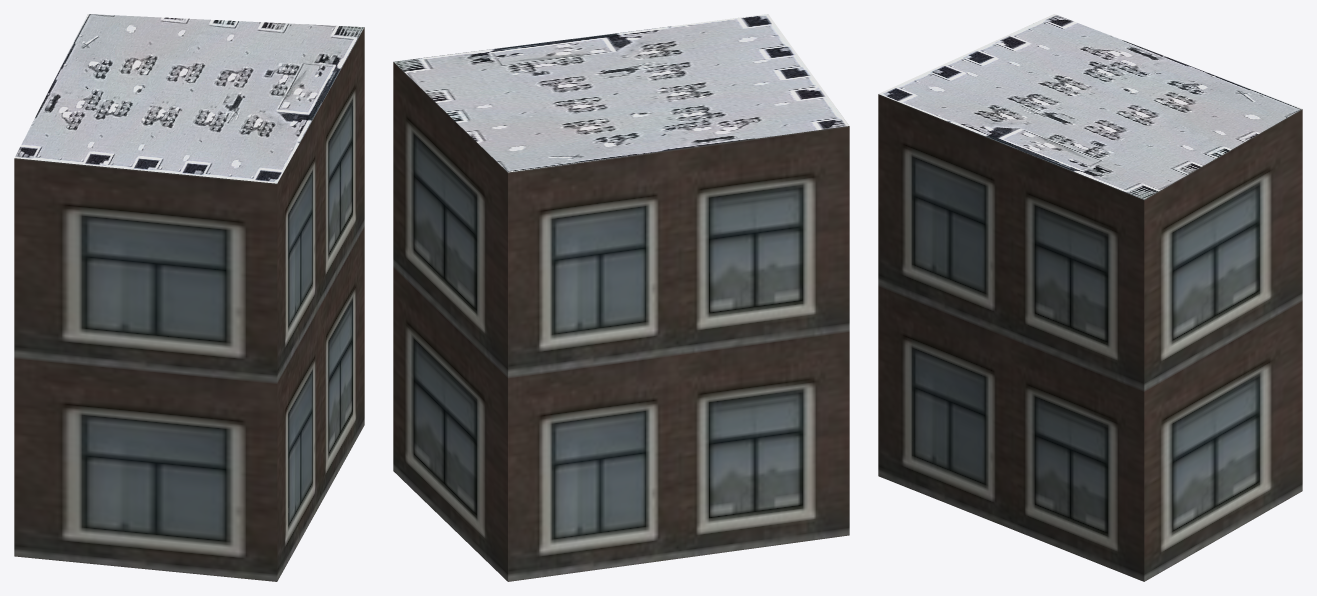
Rendered from ResTex__474.fbx.
3 views of the same model, side by side, from view 1: azimuth 30°, elevation 25°; view 2: azimuth 150°, elevation 25°; view 3: azimuth 270°, elevation 25° (orthographic). The views are drawn at different scales.
Visible parts, largest first — view 1: CityEngineMaterial_16_m, CityEngineMaterial_15_m; view 2: CityEngineMaterial_16_m, CityEngineMaterial_15_m; view 3: CityEngineMaterial_16_m, CityEngineMaterial_15_m.
Part boxes in pixels (x1,y1,x2,y2): CityEngineMaterial_16_m: (14, 27, 364, 581); CityEngineMaterial_15_m: (15, 14, 364, 183); CityEngineMaterial_16_m: (393, 62, 849, 581); CityEngineMaterial_15_m: (394, 14, 849, 172); CityEngineMaterial_16_m: (878, 94, 1302, 581); CityEngineMaterial_15_m: (879, 14, 1301, 199).
Bounding box in the file's own units: 6.26 × 6 × 6.04.
Materials: 2 (2 with a texture image).
